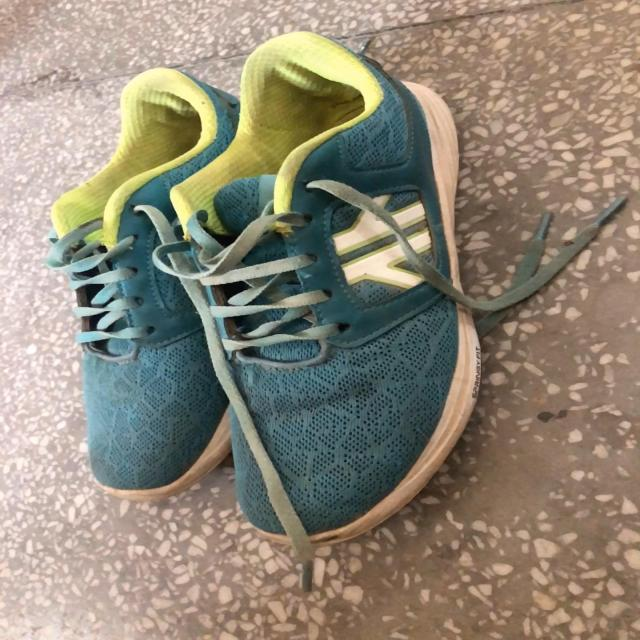shoe: (53, 33, 480, 565)
